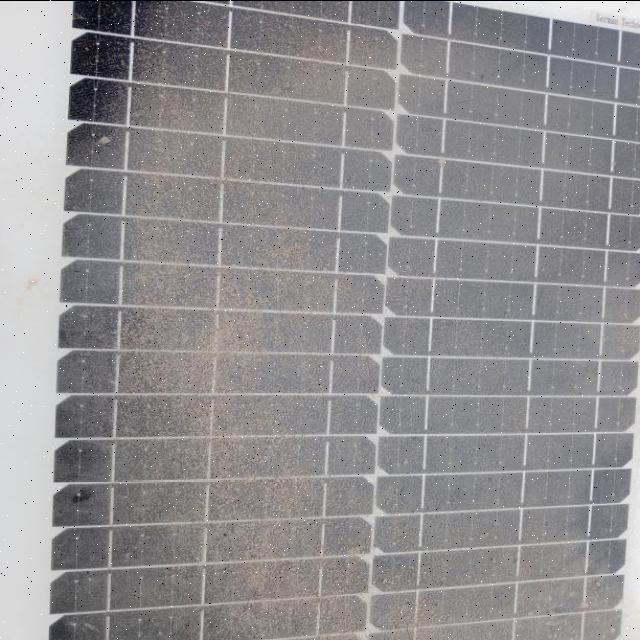Surface Contaminant: (53, 32, 633, 640)
